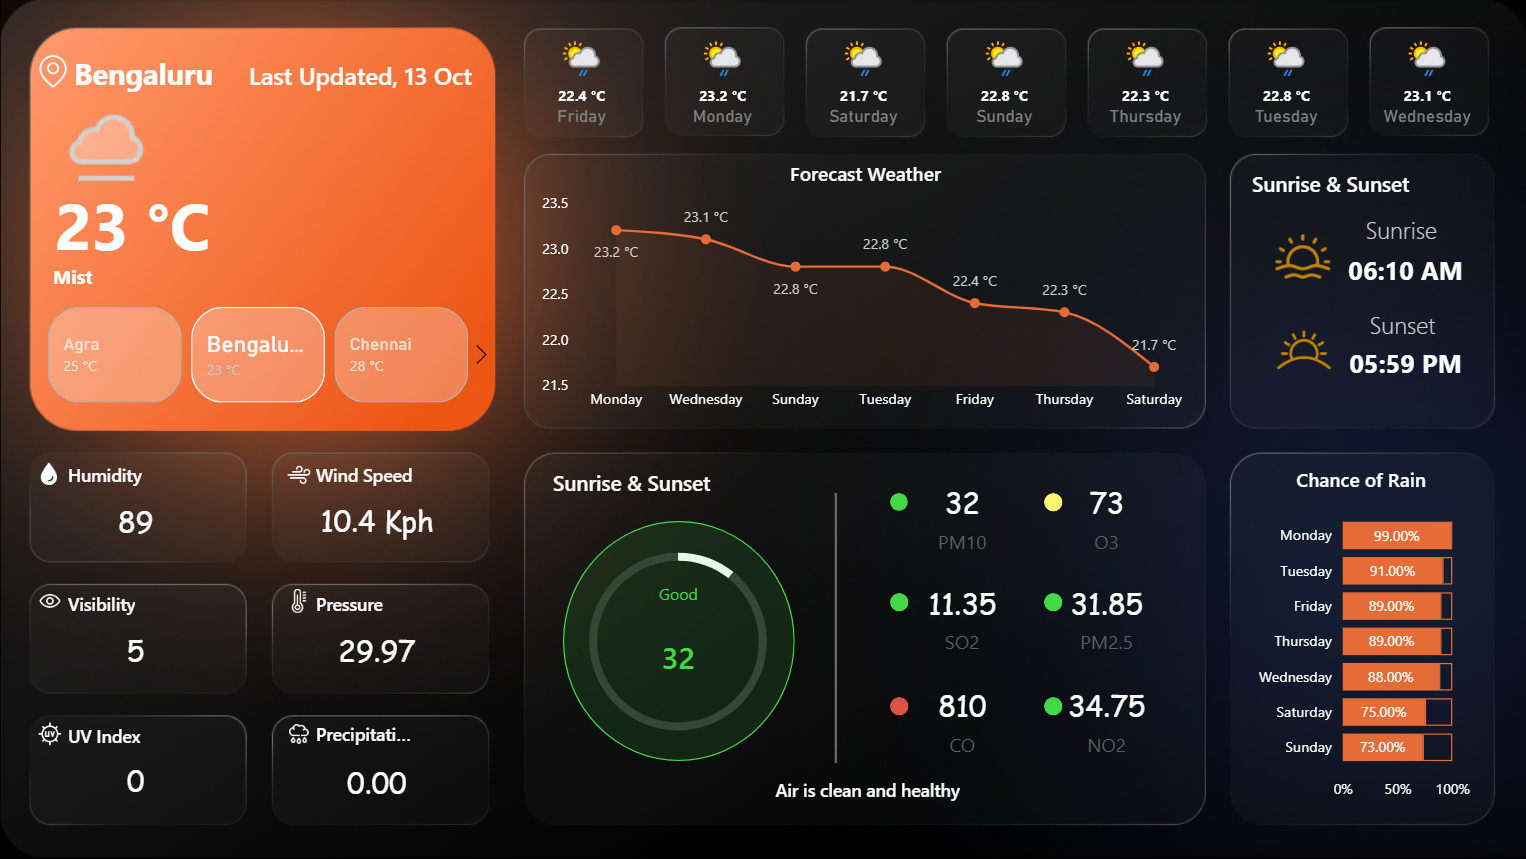

Layout of this report page (visuals, bound fields, positions):
{"tool":"powerbi","page":{"name":"Page 1","canvas":[1280,720],"ordinal":0},"visuals":[{"type":"donutChart","fields":{"Y":["Sum(Current.current.air_quality.pm10)","_Measures.Left_value_PM10"]},"box":[470,426,196,222],"z":0},{"type":"advancedSlicerVisual","fields":{"Values":["Locations.location.name"]},"box":[15.1,251.9,403.3,90.8],"z":1000},{"type":"shape","box":[15.7,141.4,190,90],"z":2000},{"type":"shape","box":[44.7,213.8,356.3,34.9],"z":3000},{"type":"shape","box":[61.9,44,133.5,34.4],"z":4000},{"type":"shape","box":[208.2,46.1,206.8,33.5],"z":5000},{"type":"image","box":[26.2,39.9,37.2,39.9],"z":6000},{"type":"cardVisual","fields":{"Data":["Min(Current.current.condition.icon)"]},"box":[0,55.7,150,111.4],"z":7000},{"type":"image","box":[27,488.5,29.6,29.6],"z":8000},{"type":"shape","box":[264.7,384,83.6,26.1],"z":9000},{"type":"image","box":[26.1,381.4,30.5,30.5],"z":10000},{"type":"image","box":[235.1,382.3,29.6,29.6],"z":11000},{"type":"image","box":[235.1,488.5,29.6,29.6],"z":12000},{"type":"image","box":[27,599.1,29.6,29.6],"z":13000},{"type":"image","box":[235.1,599.1,29.6,29.6],"z":14000},{"type":"shape","box":[56.6,492,83.6,26.1],"z":15000},{"type":"shape","box":[56.6,602.6,83.6,26.1],"z":16000},{"type":"shape","box":[264.7,600.8,83.6,26.1],"z":17000},{"type":"shape","box":[264.7,492,83.6,26.1],"z":18000},{"type":"shape","box":[56.6,384,83.6,26.1],"z":19000},{"type":"card","fields":{"Values":["Sum(Current.current.humidity)"]},"box":[62,410.2,103,55.3],"z":20000},{"type":"card","fields":{"Values":["Sum(Current.current.uv)"]},"box":[62,627.1,103,56.1],"z":21000},{"type":"card","fields":{"Values":["Sum(Current.current.vis_km)"]},"box":[62,518.2,103,56.1],"z":22000},{"type":"card","fields":{"Values":["Sum(Current.current.precip_in)"]},"box":[264.1,628.8,103.4,55.9],"z":23000},{"type":"card","fields":{"Values":["Sum(Current.current.pressure_in)"]},"box":[264.1,518.4,103.4,55.9],"z":24000},{"type":"card","fields":{"Values":["_Measures.Wind_Speed"]},"box":[254.5,409.4,122.2,56.1],"z":25000},{"type":"advancedSlicerVisual","fields":{"Values":["Forcast_Day.Day_Name"]},"box":[429.4,23.4,829.9,100.5],"z":26000},{"type":"lineChart","title":"Forecast Weather","fields":{"Y":["Sum(Forcast_Day.forecast.forecastday.day.avgtemp_c)"],"Category":["Forcast_Day.Day_Name"]},"box":[447.9,134.8,553.4,217.7],"z":27000},{"type":"shape","box":[1048.4,140.9,152.4,25.9],"z":28000},{"type":"shape","box":[1081.3,180,190.5,90.7],"z":29000},{"type":"shape","box":[1081.3,257.5,190.5,90.7],"z":30000},{"type":"shape","box":[1132.6,257.5,82.8,26.3],"z":31000},{"type":"shape","box":[1131.2,178.7,84.1,26.3],"z":32000},{"type":"image","box":[1051.1,186.6,80.1,56.5],"z":33000},{"type":"image","box":[1051.1,257.5,81.5,69.6],"z":34000},{"type":"hundredPercentStackedBarChart","title":"Chance of Rain","fields":{"Y":["Sum(Forcast_Day.forecast.forecastday.day.daily_chance_of_rain)","Current.Left_value_Rain"],"Category":["Forcast_Day.Day_Name"]},"box":[1043.3,390.9,192.7,287.7],"z":35000},{"type":"shape","box":[463.1,391.2,152.4,25.9],"z":36000},{"type":"card","fields":{"Values":["Sum(Current.current.air_quality.o3)"]},"box":[866.4,397,119.9,72.4],"z":37000},{"type":"card","fields":{"Values":["Sum(Current.current.air_quality.pm10)"]},"box":[745.5,397,121,72.4],"z":38000},{"type":"card","fields":{"Values":["Sum(Current.current.air_quality.so2)"]},"box":[745.5,481.8,121,71.3],"z":39000},{"type":"card","fields":{"Values":["Sum(Current.current.air_quality.pm2_5)"]},"box":[866.4,481.8,119.9,71.3],"z":40000},{"type":"card","fields":{"Values":["Sum(Current.current.air_quality.co)"]},"box":[745.5,566.6,121,72.4],"z":41000},{"type":"card","fields":{"Values":["Sum(Current.current.air_quality.no2)"]},"box":[866.4,566.6,119.9,72.4],"z":42000},{"type":"shape","box":[745.5,412.5,15,15],"z":43000},{"type":"shape","box":[873.7,412.5,15.5,15.5],"z":44000},{"type":"shape","box":[745.5,496.3,15.5,15.5],"z":45000},{"type":"shape","box":[745.5,583.1,15.5,15.5],"z":46000},{"type":"shape","box":[873.7,583.1,15.5,15.5],"z":47000},{"type":"shape","box":[873.7,496.3,15.5,15.5],"z":48000},{"type":"shape","box":[675,413,50,226],"z":49000},{"type":"shape","box":[471,436,194,201],"z":50000},{"type":"card","fields":{"Values":["Sum(Current.current.air_quality.pm10)"]},"box":[504,488,128,109],"z":51000},{"type":"shape","box":[572,648,309,26],"z":52000}]}

Visuals, with their boxes in screenshot pixels (x1, y1, x2, y2), scaled from the page's 1280x720 canvas onto the 1526x859 screenshot:
donutChart - Sum(Current.current.air_quality.pm10) x _Measures.Left_value_PM10: <bbox>560, 508, 794, 773</bbox>
advancedSlicerVisual - Locations.location.name: <bbox>18, 301, 499, 409</bbox>
shape: <bbox>19, 169, 245, 276</bbox>
shape: <bbox>53, 255, 478, 297</bbox>
shape: <bbox>74, 52, 233, 94</bbox>
shape: <bbox>248, 55, 495, 95</bbox>
image: <bbox>31, 48, 76, 95</bbox>
cardVisual - Min(Current.current.condition.icon): <bbox>0, 66, 179, 199</bbox>
image: <bbox>32, 583, 67, 618</bbox>
shape: <bbox>316, 458, 415, 489</bbox>
image: <bbox>31, 455, 67, 491</bbox>
image: <bbox>280, 456, 316, 491</bbox>
image: <bbox>280, 583, 316, 618</bbox>
image: <bbox>32, 715, 67, 750</bbox>
image: <bbox>280, 715, 316, 750</bbox>
shape: <bbox>67, 587, 167, 618</bbox>
shape: <bbox>67, 719, 167, 750</bbox>
shape: <bbox>316, 717, 415, 748</bbox>
shape: <bbox>316, 587, 415, 618</bbox>
shape: <bbox>67, 458, 167, 489</bbox>
card - Sum(Current.current.humidity): <bbox>74, 489, 197, 555</bbox>
card - Sum(Current.current.uv): <bbox>74, 748, 197, 815</bbox>
card - Sum(Current.current.vis_km): <bbox>74, 618, 197, 685</bbox>
card - Sum(Current.current.precip_in): <bbox>315, 750, 438, 817</bbox>
card - Sum(Current.current.pressure_in): <bbox>315, 618, 438, 685</bbox>
card - _Measures.Wind_Speed: <bbox>303, 488, 449, 555</bbox>
advancedSlicerVisual - Forcast_Day.Day_Name: <bbox>512, 28, 1501, 148</bbox>
"Forecast Weather" lineChart: <bbox>534, 161, 1194, 421</bbox>
shape: <bbox>1250, 168, 1432, 199</bbox>
shape: <bbox>1289, 215, 1516, 323</bbox>
shape: <bbox>1289, 307, 1516, 415</bbox>
shape: <bbox>1350, 307, 1449, 339</bbox>
shape: <bbox>1349, 213, 1449, 245</bbox>
image: <bbox>1253, 223, 1349, 290</bbox>
image: <bbox>1253, 307, 1350, 390</bbox>
"Chance of Rain" hundredPercentStackedBarChart: <bbox>1244, 466, 1474, 810</bbox>
shape: <bbox>552, 467, 734, 498</bbox>
card - Sum(Current.current.air_quality.o3): <bbox>1033, 474, 1176, 560</bbox>
card - Sum(Current.current.air_quality.pm10): <bbox>889, 474, 1033, 560</bbox>
card - Sum(Current.current.air_quality.so2): <bbox>889, 575, 1033, 660</bbox>
card - Sum(Current.current.air_quality.pm2_5): <bbox>1033, 575, 1176, 660</bbox>
card - Sum(Current.current.air_quality.co): <bbox>889, 676, 1033, 762</bbox>
card - Sum(Current.current.air_quality.no2): <bbox>1033, 676, 1176, 762</bbox>
shape: <bbox>889, 492, 907, 510</bbox>
shape: <bbox>1042, 492, 1060, 511</bbox>
shape: <bbox>889, 592, 907, 611</bbox>
shape: <bbox>889, 696, 907, 714</bbox>
shape: <bbox>1042, 696, 1060, 714</bbox>
shape: <bbox>1042, 592, 1060, 611</bbox>
shape: <bbox>805, 493, 864, 762</bbox>
shape: <bbox>562, 520, 793, 760</bbox>
card - Sum(Current.current.air_quality.pm10): <bbox>601, 582, 753, 712</bbox>
shape: <bbox>682, 773, 1050, 804</bbox>
